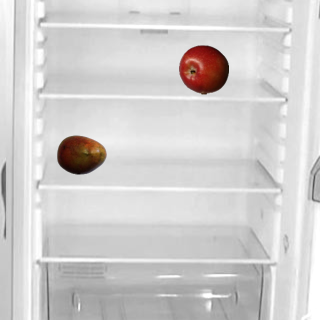Apple Braeburn: (178, 44, 228, 94)
Mango Red: (56, 129, 106, 179)
